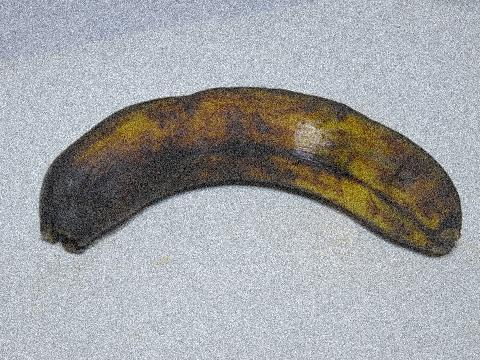overripe: (29, 75, 471, 305)
